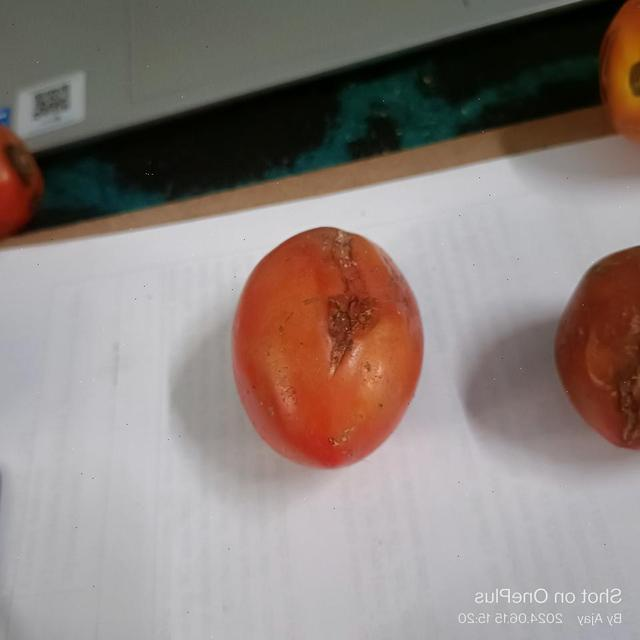Cracking Fruit: (122, 89, 338, 291)
